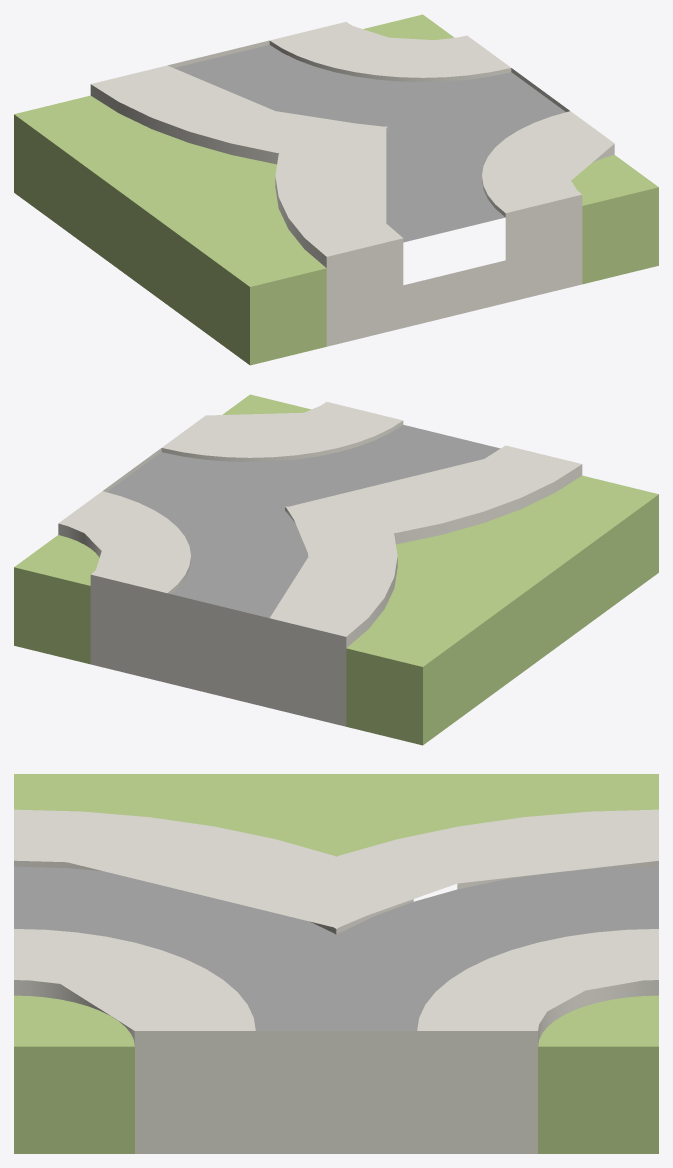
Rendered from roadTile_148.glb.
3 renders of one model, top to bottom at view 1: azimuth 30°, elevation 25°; view 2: azimuth 150°, elevation 25°; view 3: azimuth 270°, elevation 25°, orthographic. The views are drawn at different scales.
Visible parts, largest first — view 1: roadTile_148; view 2: roadTile_148; view 3: roadTile_148.
Boxes of the visible parts, x1,y1,x2,y2 form: roadTile_148: [14, 14, 658, 365]; roadTile_148: [14, 394, 658, 745]; roadTile_148: [14, 774, 658, 1153].
Size of the model in its own units: 3 by 0.63 by 3.
